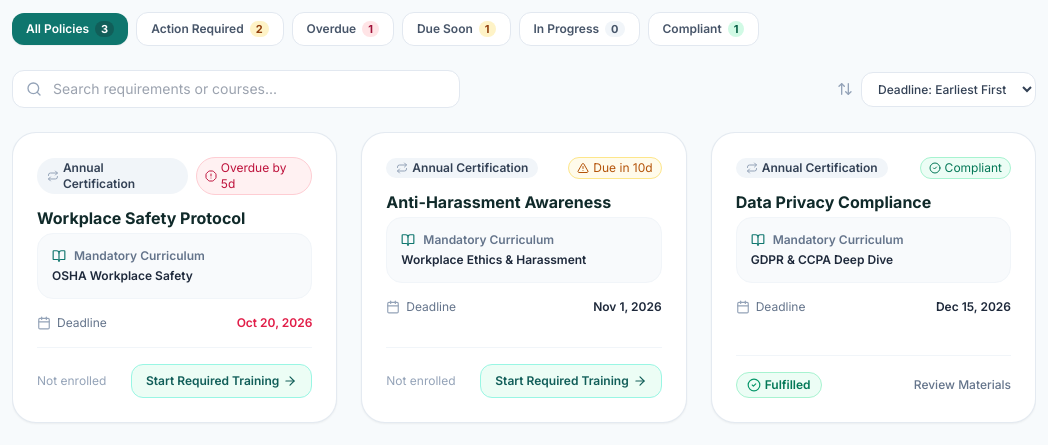
Test: Compliance Component Library › ComplianceRequirementList › renders empty state with Reset Filters button when filter matches nothing
Type "Nonexistent Policy" into the field with test id "compliance-search-input". click: (236, 89)
box: top-left (12, 70), bottom-right (460, 108)
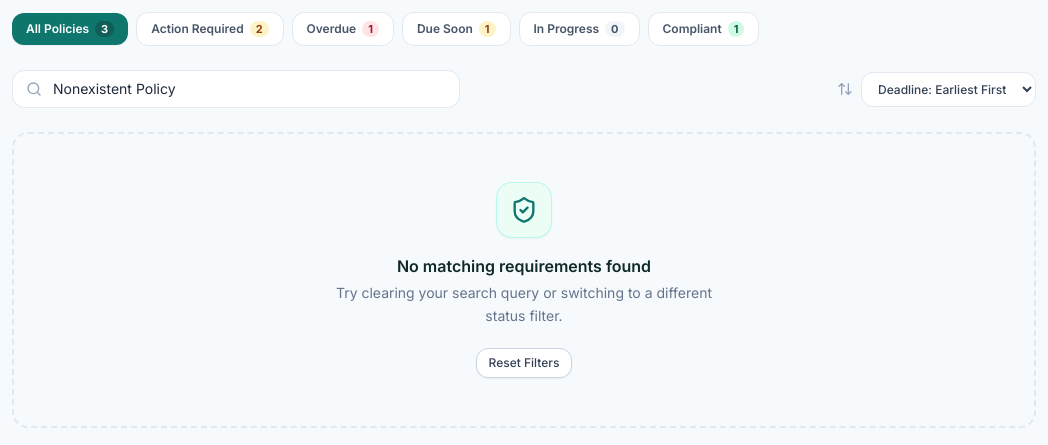
expect the heading "No matching requirements found" is shown: met, box top-left (397, 254), bottom-right (651, 278)
Click the button "Reset Filters". click: (524, 362)
box: top-left (476, 348), bottom-right (572, 378)
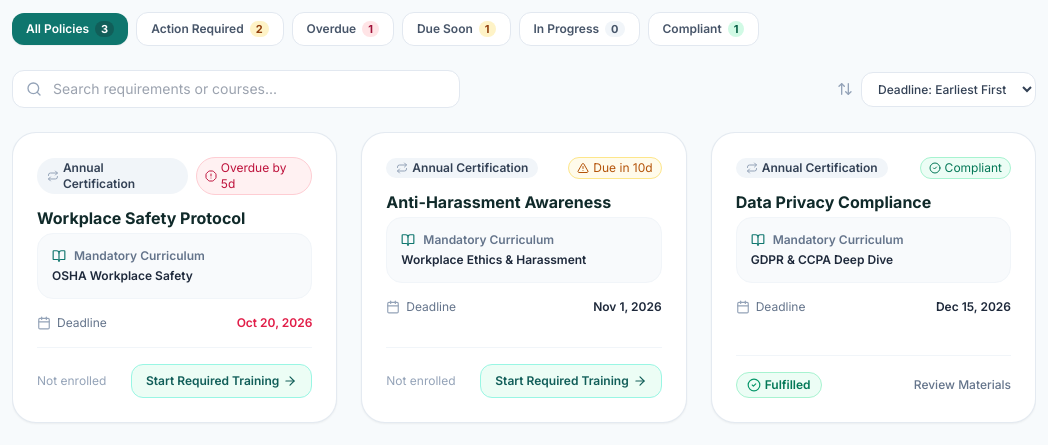
expect the heading "Workplace Safety Protocol" is shown: met, box top-left (37, 208), bottom-right (246, 228)
